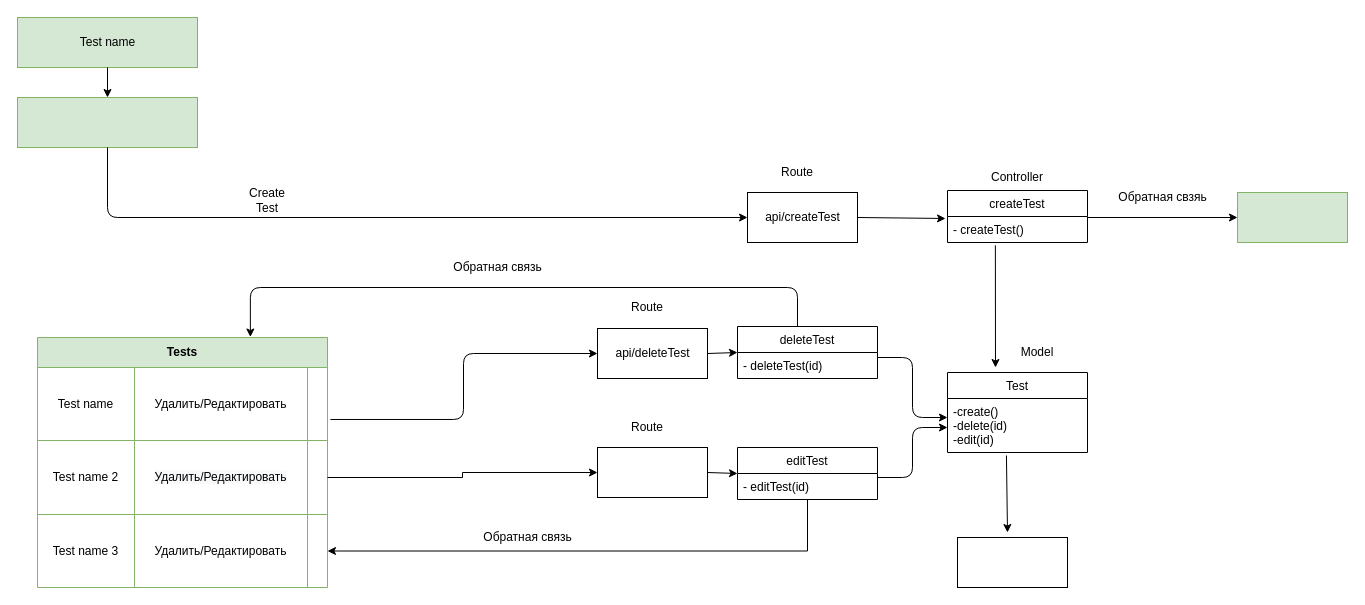
Image size: 1365x605. Some labels were removed from this diagram. The shapes that lost their labels are listed below. From the top down, each one's centre as x and y in pixels, then its label:
At (x=107, y=122): "Save".
At (x=1292, y=217): "Создано".
At (x=652, y=472): "api/editTest".
At (x=1012, y=562): "DB".
